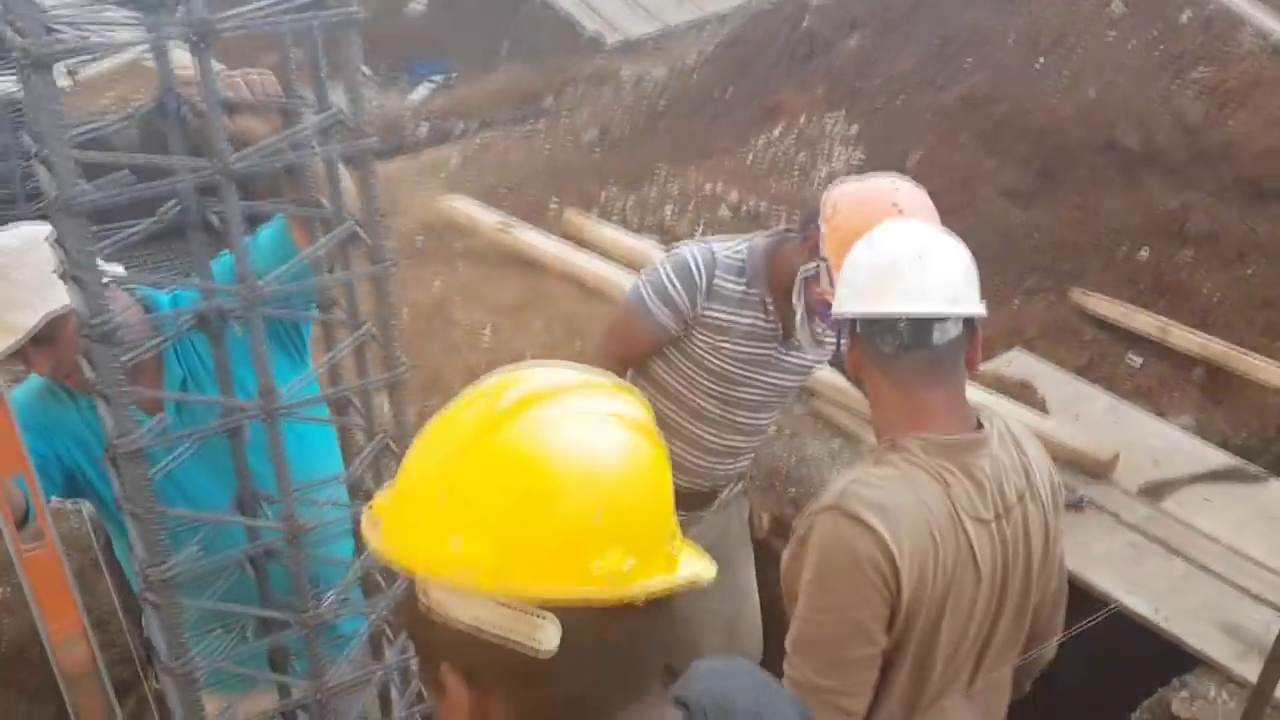helmet: (375, 360, 714, 633), (833, 219, 992, 338), (813, 171, 944, 304)
helmet-off: (0, 218, 165, 392)
helmet-on: (358, 356, 716, 720), (835, 220, 992, 454), (743, 164, 943, 346)
person: (3, 130, 355, 720), (592, 160, 943, 669), (778, 225, 1073, 720)
